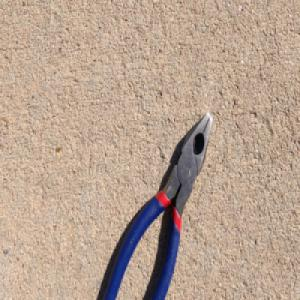Pliers: (102, 107, 217, 300)
